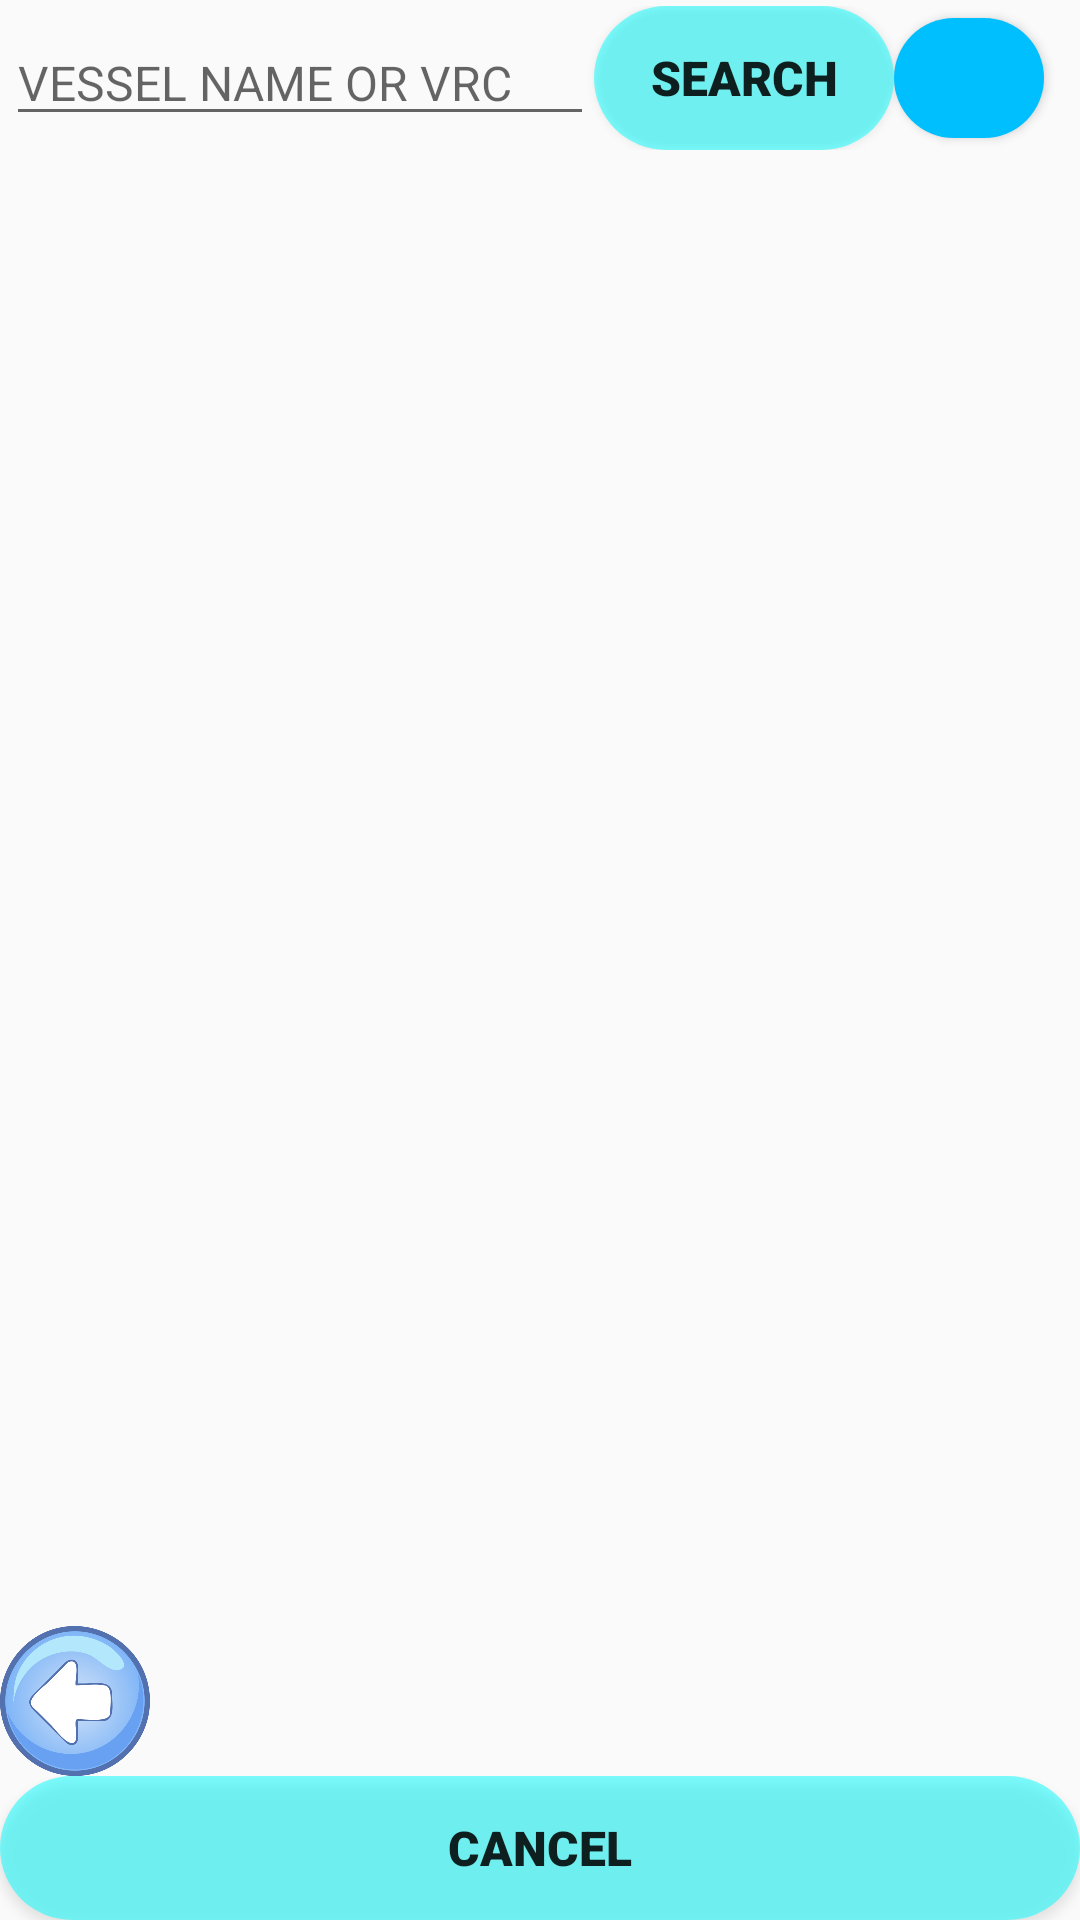

Point at icon controls on the screen. Image size 1080 × 1920, points as (x,y).
prev: (75,1701)
